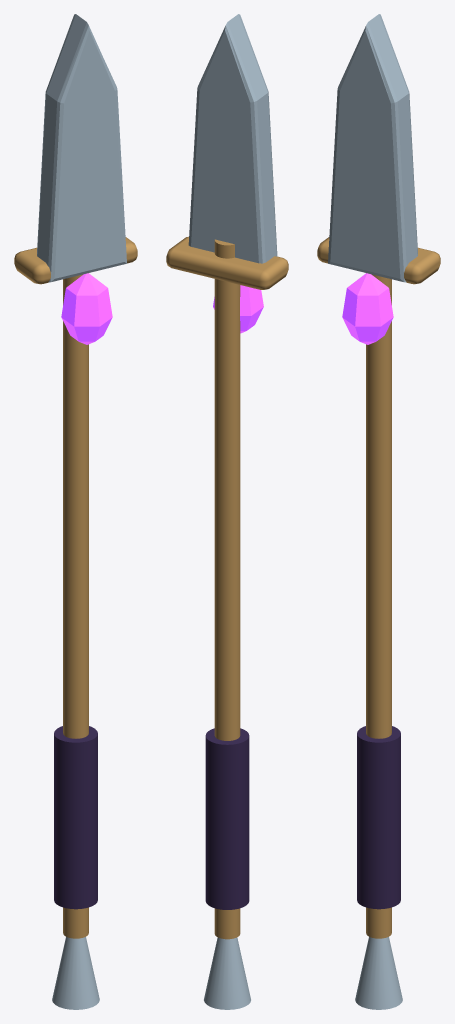
Rendered from moonsteel-convergence-moonsteel-glaive-b96afa20__18206.glb.
3 views of the same model, side by side, from view 1: azimuth 30°, elevation 25°; view 2: azimuth 150°, elevation 25°; view 3: azimuth 330°, elevation 25° (orthographic).
Parts seen in each view (by area): view 1: moonsteel-glaive; view 2: moonsteel-glaive; view 3: moonsteel-glaive.
Part boxes in pixels (x1,y1,x2,y2): moonsteel-glaive: (14,14,137,1009); moonsteel-glaive: (166,14,288,1009); moonsteel-glaive: (317,14,440,1009).
Size of the model in its own units: 0.3299 by 2.96 by 0.2.
